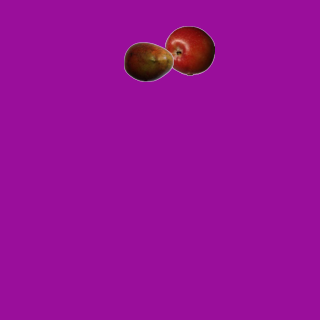Apple Braeburn: (164, 25, 214, 75)
Mango Red: (123, 36, 173, 86)
